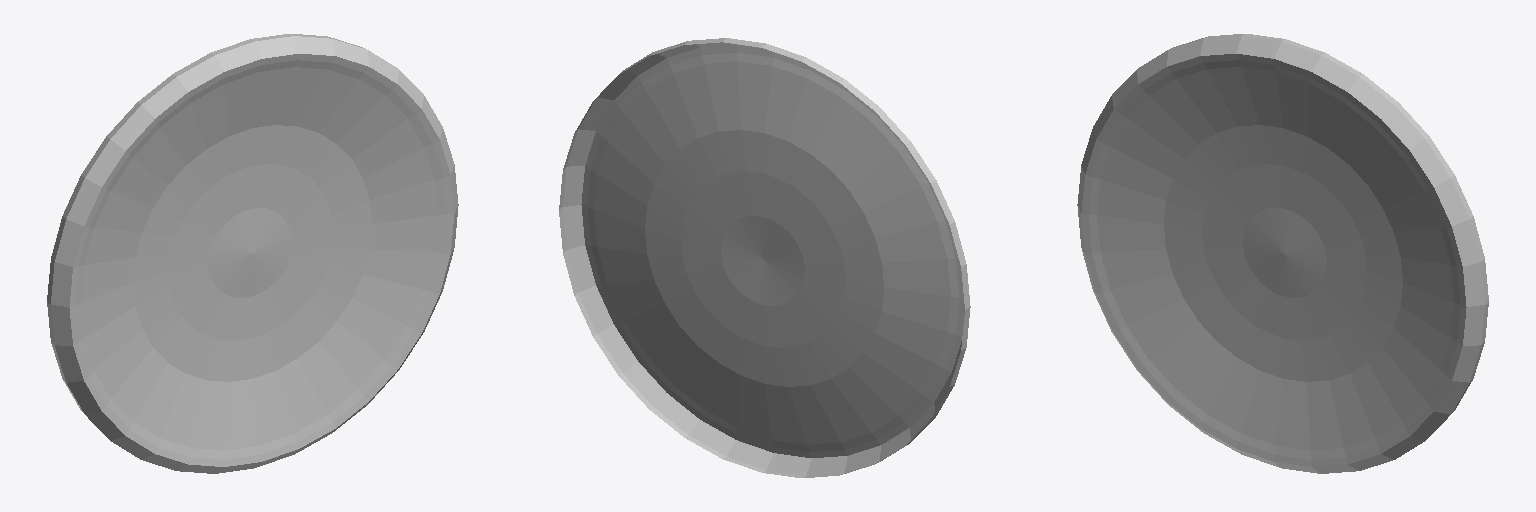
The model's file is pizza_V5.obj.
The picture shows the model from 3 angles: view 1: azimuth 30°, elevation 25°; view 2: azimuth 150°, elevation 25°; view 3: azimuth 330°, elevation 25°; orthographic projection.
Parts seen in each view (by area): view 1: Sphere; view 2: Sphere; view 3: Sphere.
Part boxes in pixels (x1,y1,x2,y2): Sphere: (47, 34, 458, 473); Sphere: (559, 38, 970, 477); Sphere: (1077, 34, 1488, 473).
Size of the model in its own units: 4.1 by 4.1 by 0.209.